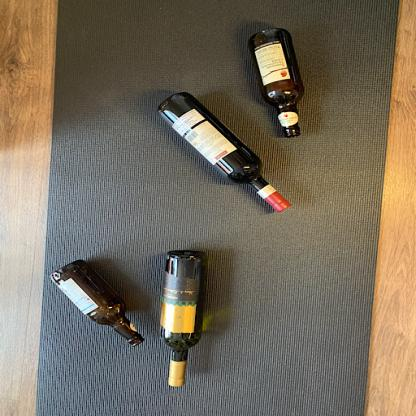trash: (154, 90, 290, 218), (47, 260, 146, 350), (156, 244, 215, 392), (249, 27, 303, 140)
